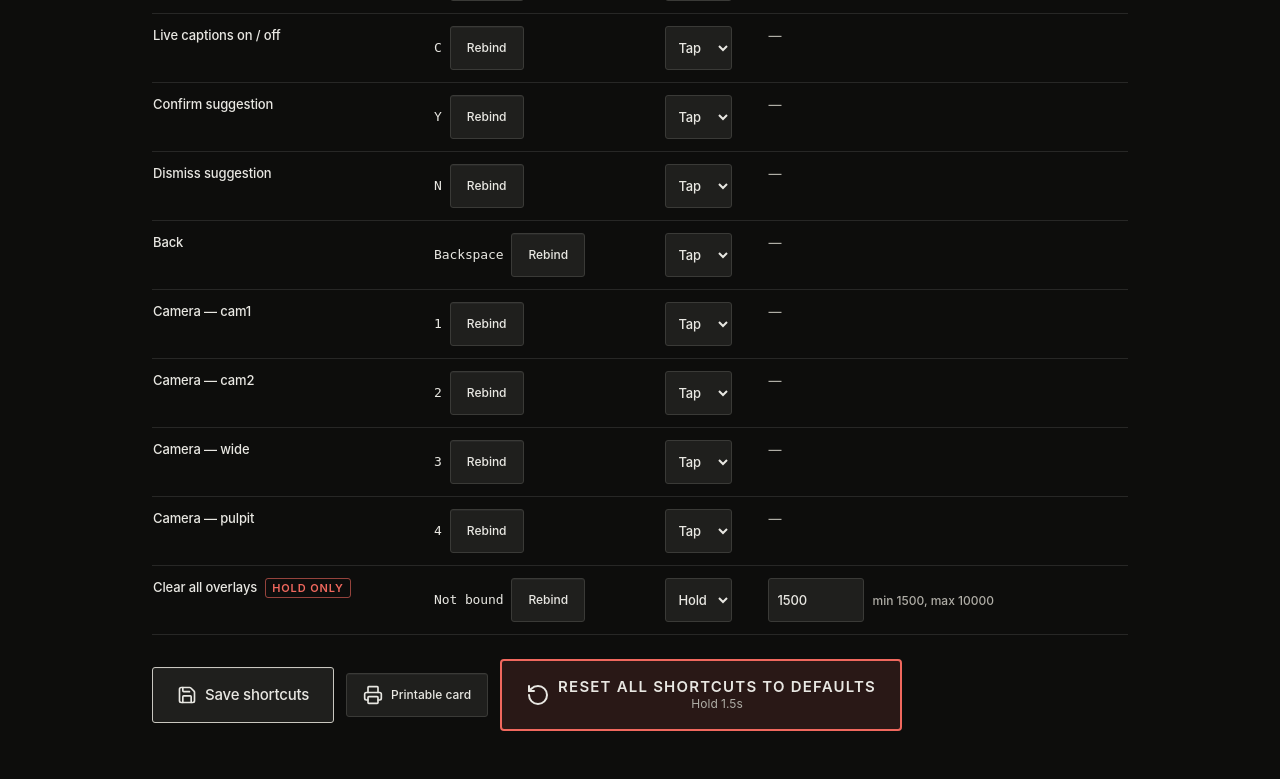
Test: ShortcutSettings › shows a printable card covering the whole map
(page scrolled)
Check: the element "shortcut card" is not shown
Step 1. Click the button "Printable card" → x=417, y=695, box [346,673,488,717]
(page scrolled)
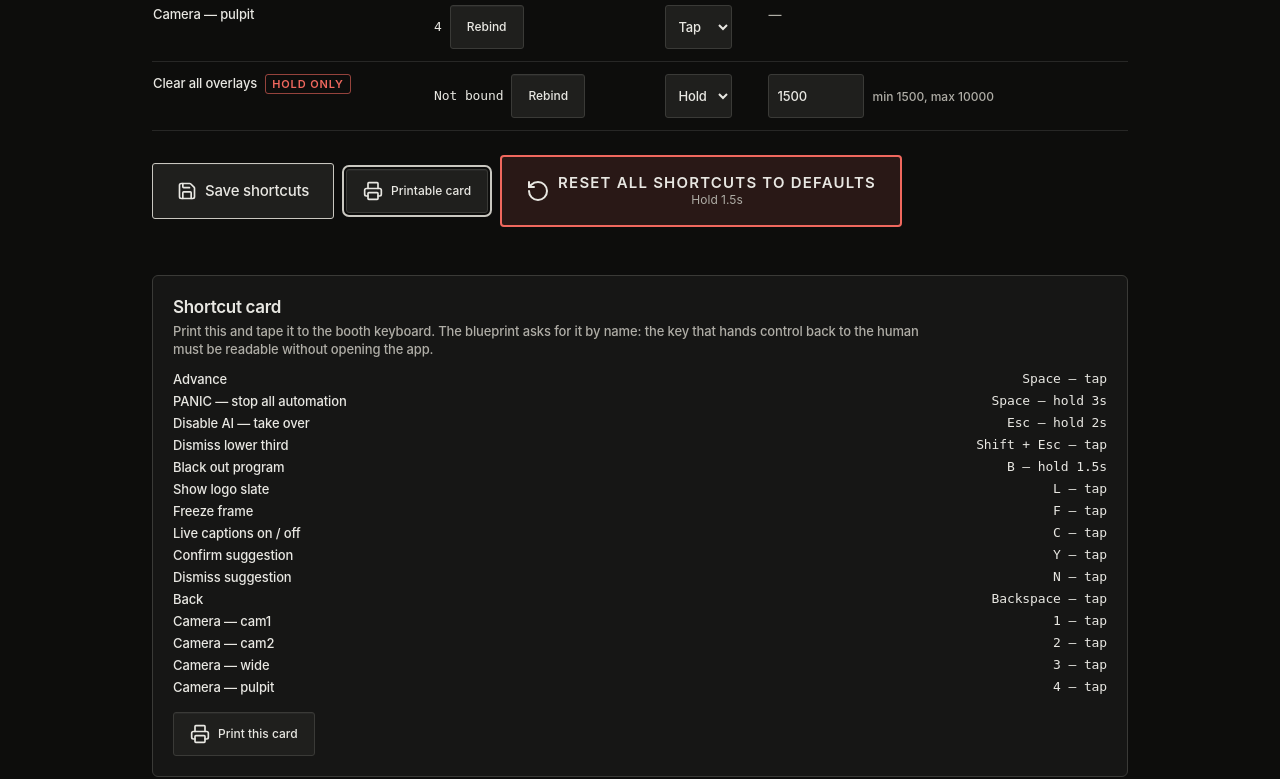
Check: the number of list items is 15
Check: the text "Esc — hold 2s" is shown, box [1007,414,1107,432]
Check: the text "Space — tap" is shown, box [1022,370,1107,388]
